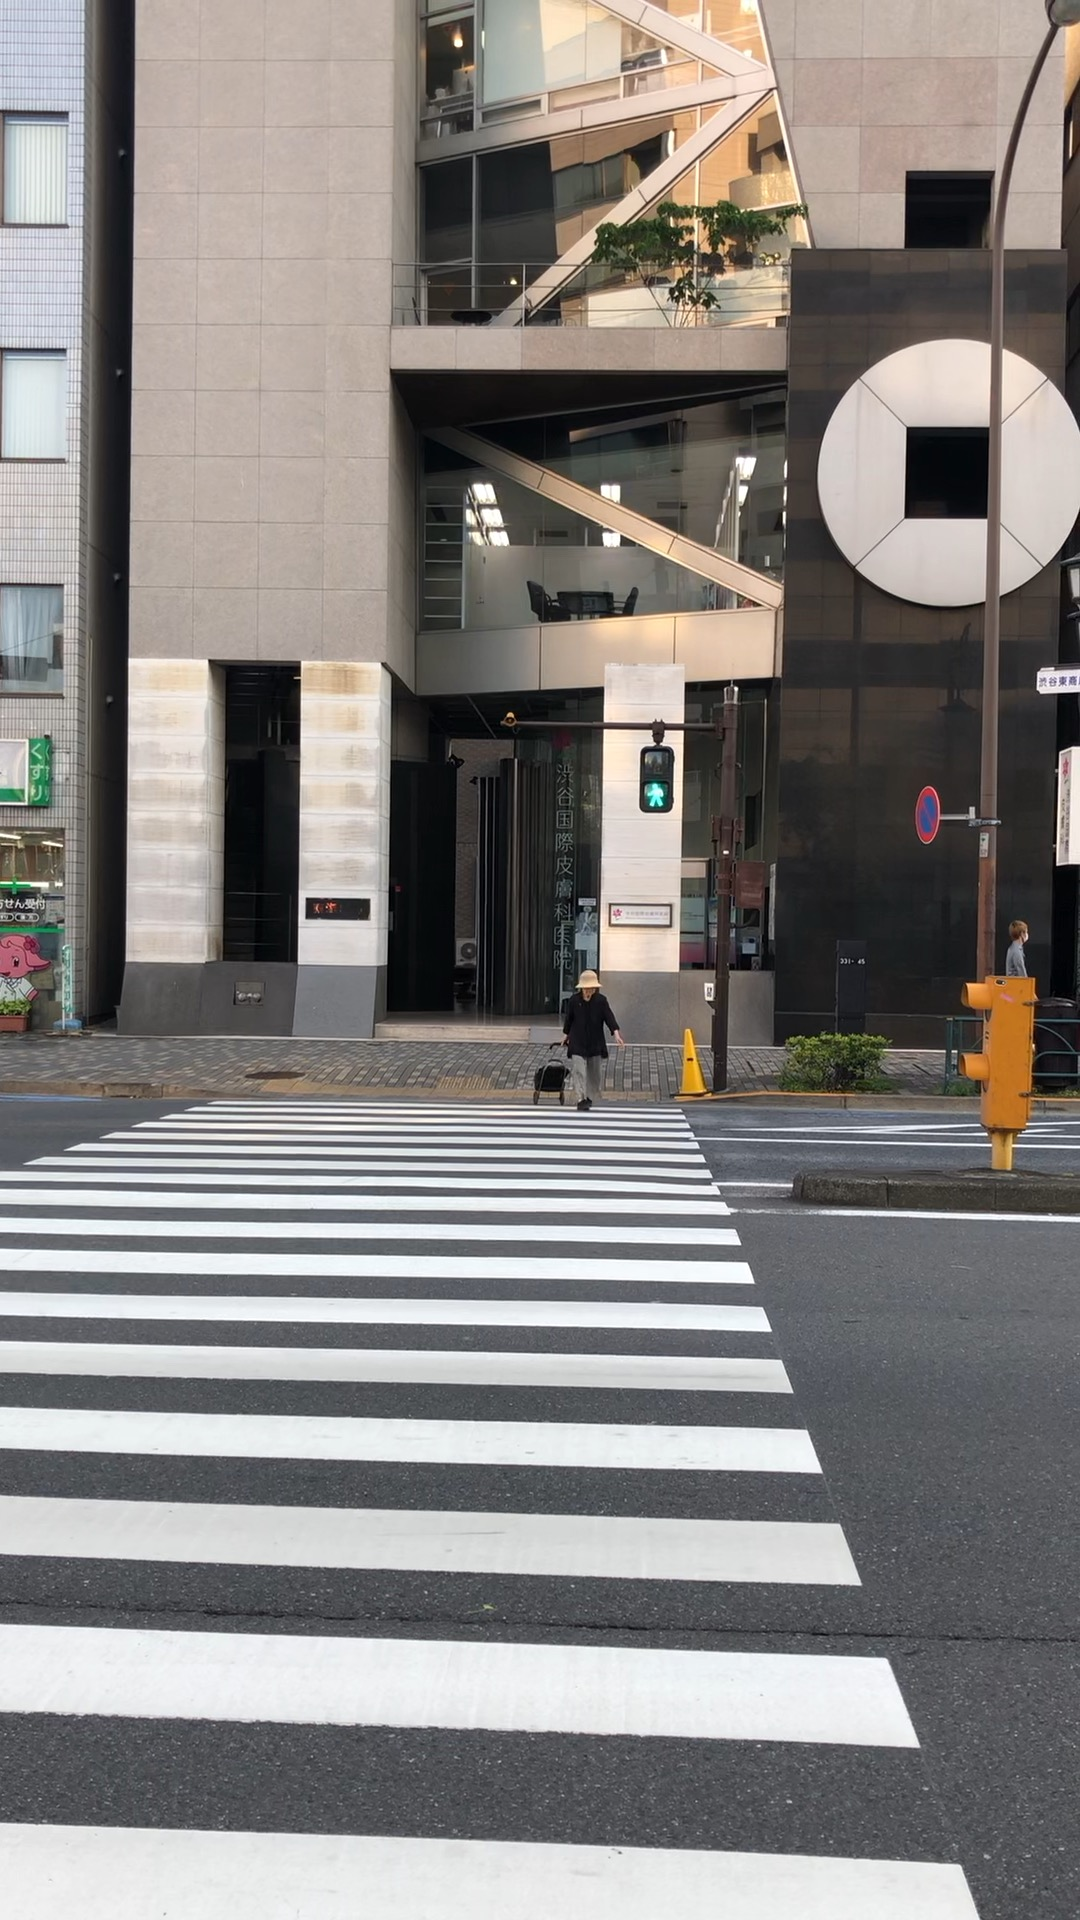green: (640, 745, 673, 811)
